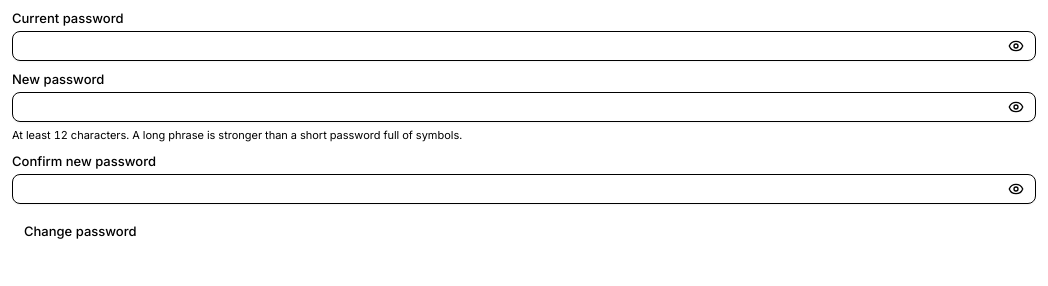
Test: PasswordForm › says so when the other devices could not be signed out
Click the button "Change password": (80, 231) [12,216,148,246]
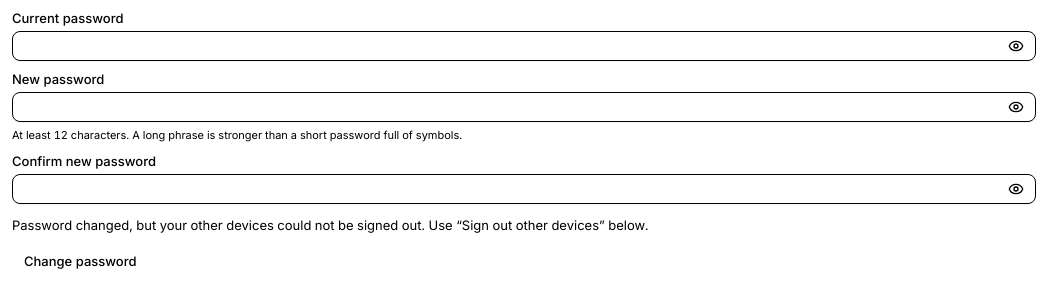
Expected: the message shows "could not be signed out", [12,217,649,233]
